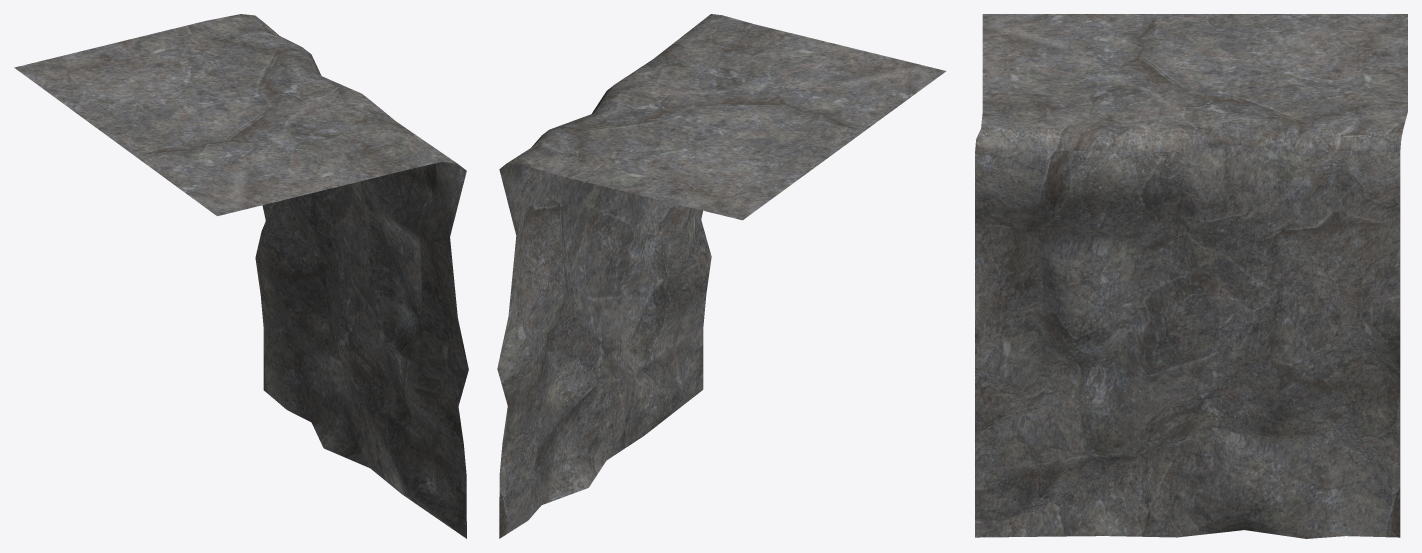
The model's file is Cliff.obj.
3 renders of one model, left to right at view 1: azimuth 30°, elevation 25°; view 2: azimuth 150°, elevation 25°; view 3: azimuth 270°, elevation 25°, orthographic. The views are drawn at different scales.
Visible parts, largest first — view 1: Rock.001; view 2: Rock.001; view 3: Rock.001.
Part boxes in pixels (x1,y1,x2,y2): Rock.001: (14,14,468,538); Rock.001: (497,14,946,538); Rock.001: (975,14,1407,538).
Bounding box in the file's own units: 179 × 258 × 255.
Materials: 1 (1 with a texture image).
